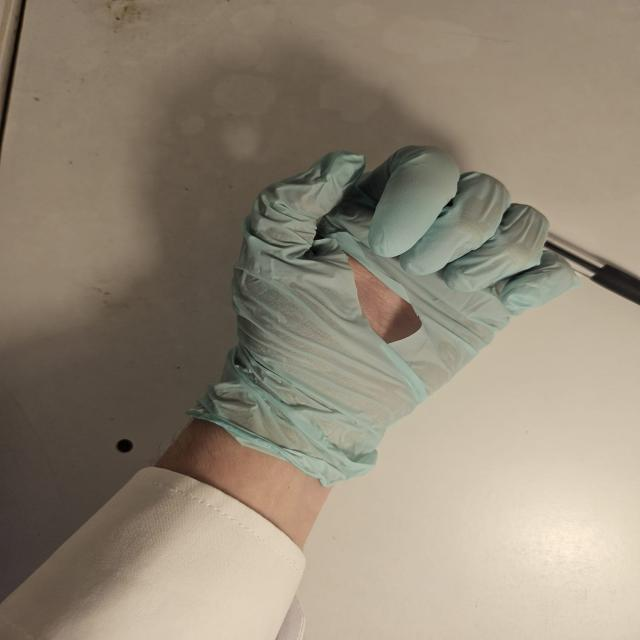gloves_damaged: (186, 146, 580, 492)
